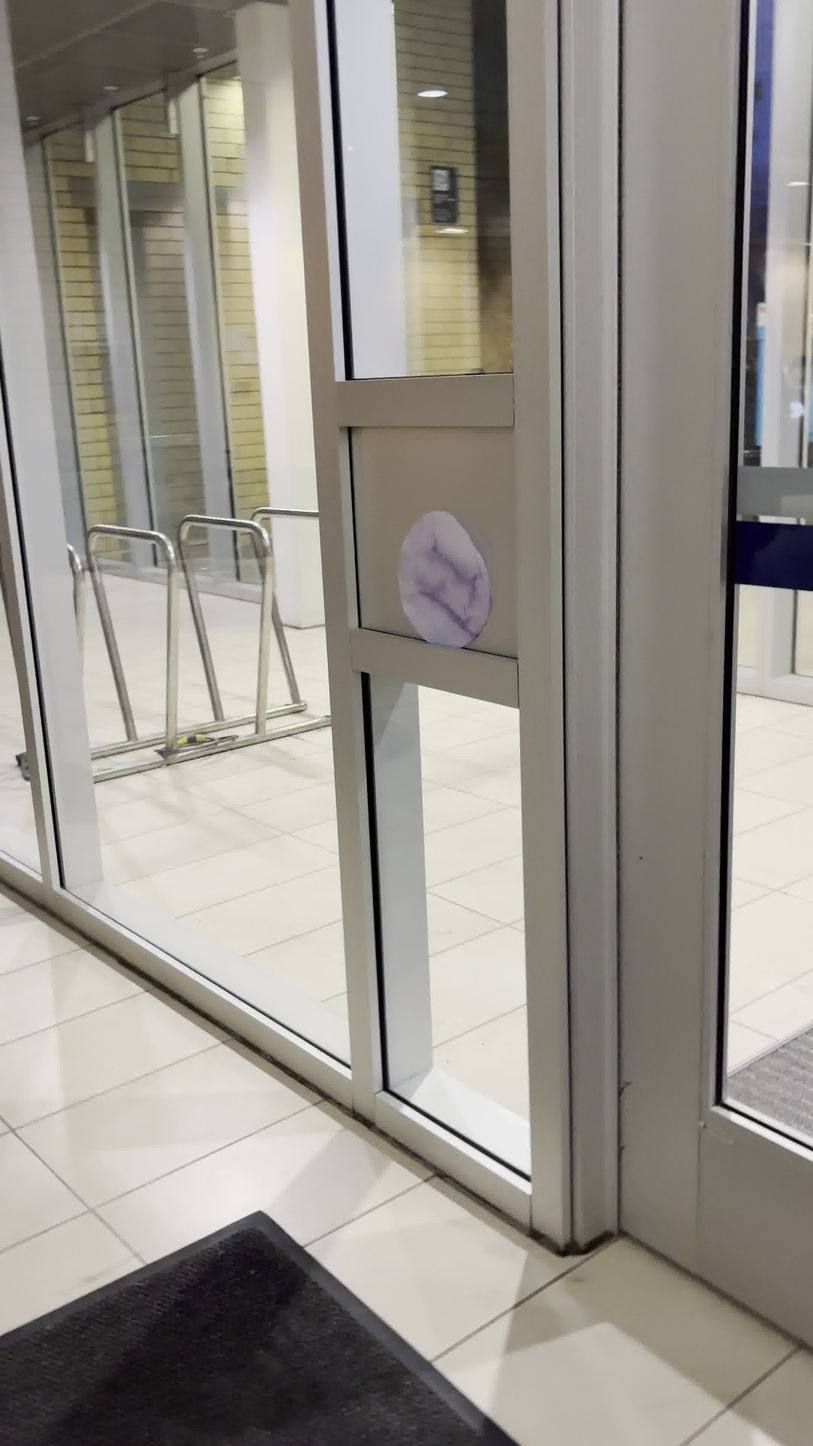Target: (384, 504, 499, 652)
